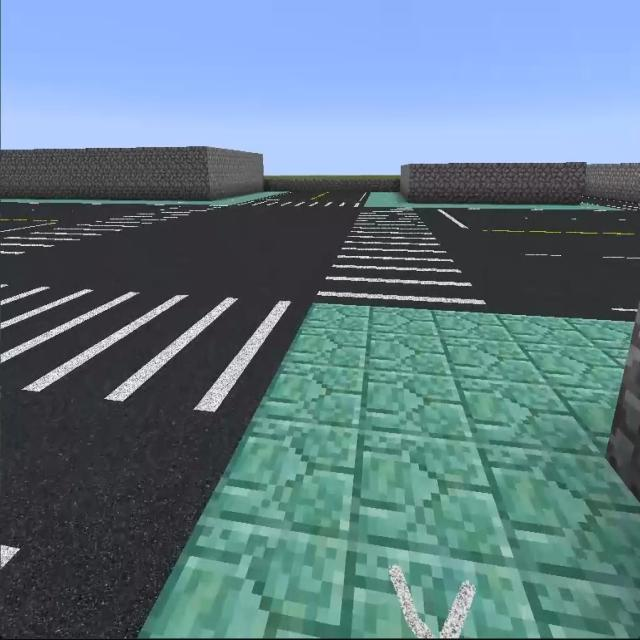crosswalk: (5, 269, 308, 442), (309, 205, 504, 309), (0, 209, 217, 278), (257, 198, 363, 212)
road: (7, 407, 232, 631), (21, 211, 352, 298), (430, 211, 637, 314)
sidewalk: (140, 305, 639, 639), (364, 192, 626, 210), (0, 192, 284, 207)
